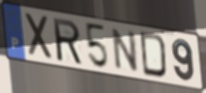5: (83, 22, 111, 70)
9: (170, 37, 196, 84)
D: (139, 31, 168, 81)
N: (111, 27, 140, 74)
R: (51, 17, 85, 67)
X: (23, 11, 55, 62)
